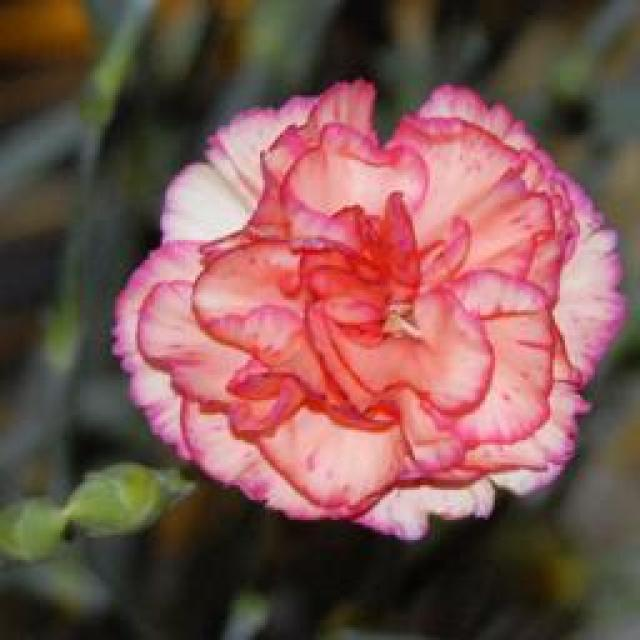carnation: (111, 77, 618, 517)
